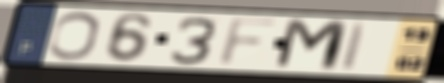3: (169, 15, 221, 66)
6: (103, 11, 156, 65)
F: (213, 16, 285, 68)
I: (338, 21, 373, 73)
M: (271, 17, 353, 74)
O: (46, 10, 103, 62)
